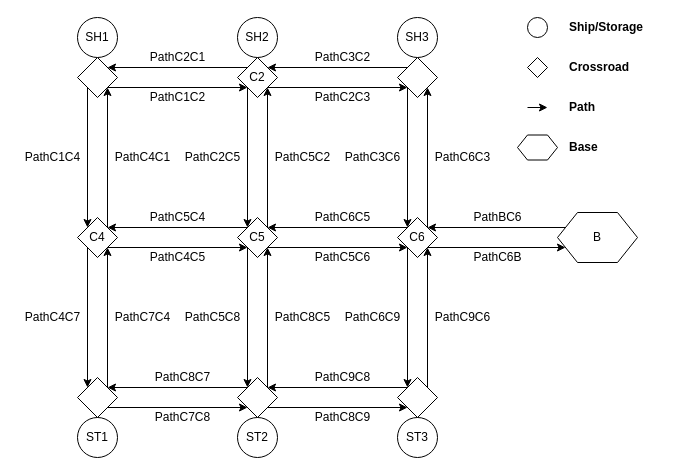
This 674x475 diagram has some shape labels left out. The shapes that lost their labels are listed below. From the top down, each one's box as (x1, y1, x2, y2) in pixels, then its label:
(76, 56, 118, 98): C1
(396, 56, 438, 98): C3
(76, 376, 118, 418): C7
(236, 376, 278, 418): C8
(396, 376, 438, 418): C9
